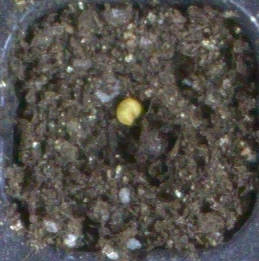pepper seed: (45, 34, 188, 161)
